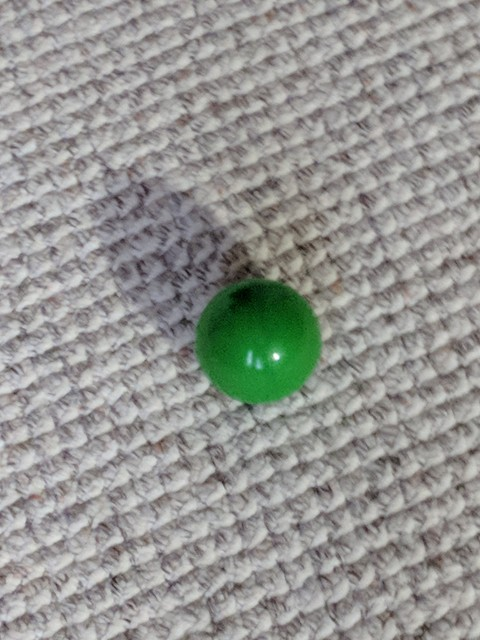Ball: (194, 285, 322, 404)
